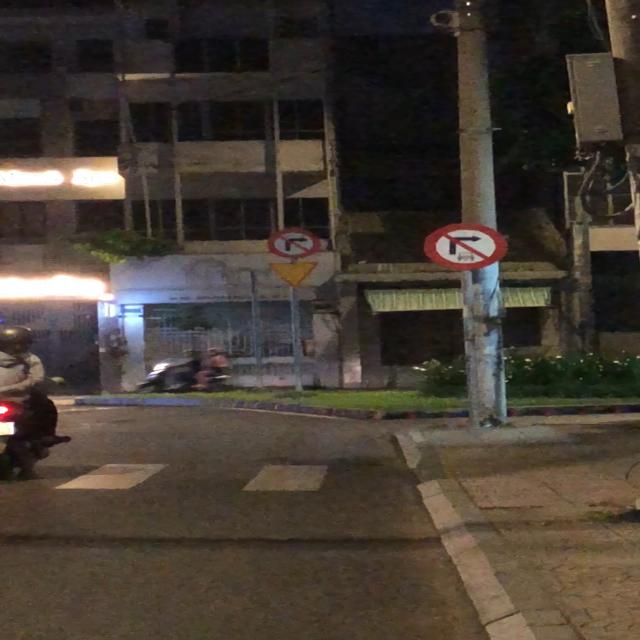Bien bao cam re phai: (263, 228, 323, 258)
Bien bao cam xe o to re phai: (422, 220, 512, 274)
Bien bao giao nhau voi duong uu tien: (265, 258, 326, 288)
